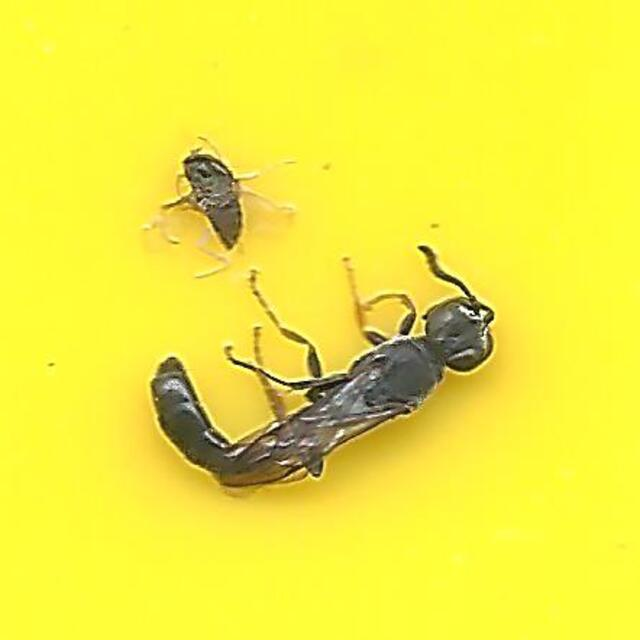Brachycera: (162, 147, 291, 256)
Hymenoptera: (145, 246, 495, 493)
